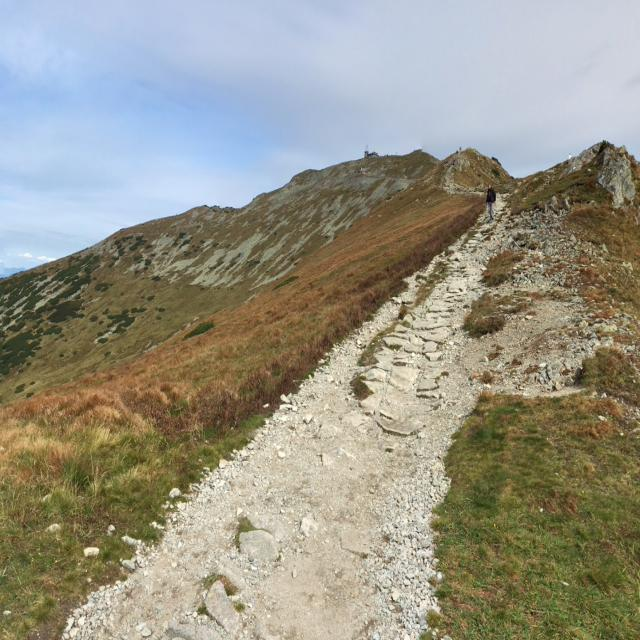Kasprowy Wierch: (256, 53, 500, 258)
